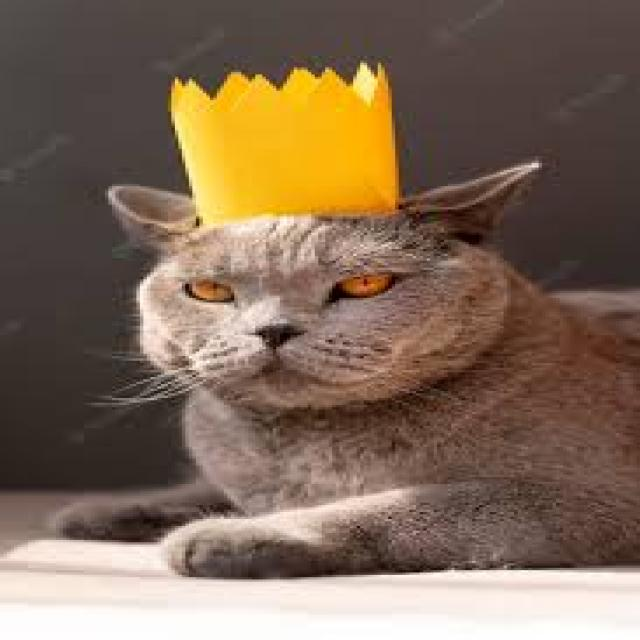Cat: (38, 160, 640, 582)
